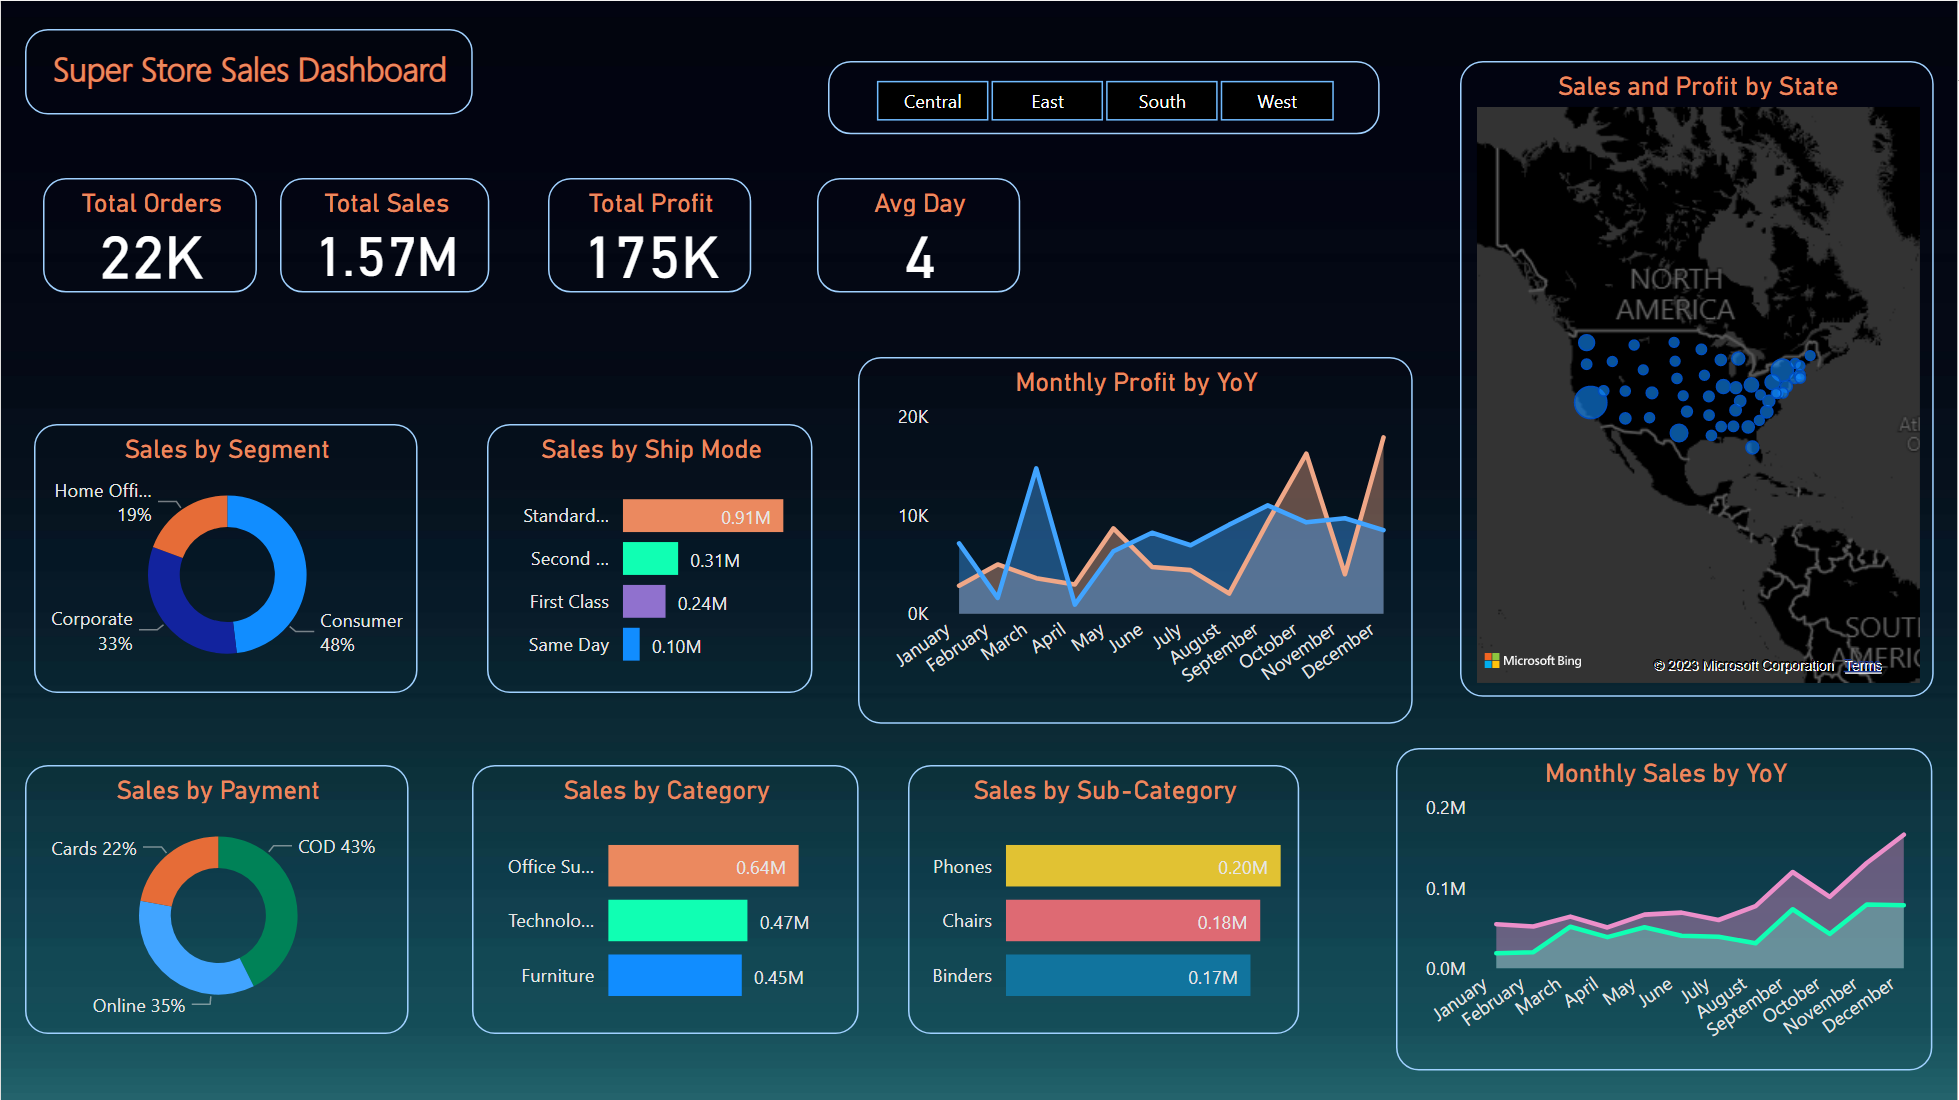

This screenshot's page, from the dashboard's own definition file:
{"tool":"powerbi","page":{"name":"Page 1","canvas":[1280,720],"ordinal":0},"visuals":[{"type":"textbox","box":[15.7,18.3,292.5,56.3],"z":0},{"type":"card","title":"Total Orders","fields":{"Values":["Sum(SuperStore_Sales_Dataset.Quantity)"]},"box":[27.5,115.8,140,75.3],"z":1},{"type":"card","title":"Total Sales","fields":{"Values":["Sum(SuperStore_Sales_Dataset.Sales)"]},"box":[182.6,116.1,137.4,75.3],"z":2},{"type":"card","title":"Total Profit","fields":{"Values":["Sum(SuperStore_Sales_Dataset.Profit)"]},"box":[358,116.1,132.8,75.3],"z":3},{"type":"donutChart","title":"Sales by Segment","fields":{"Category":["SuperStore_Sales_Dataset.Segment"],"Y":["Sum(SuperStore_Sales_Dataset.Sales)"]},"box":[21.6,276.8,250.6,176],"z":4},{"type":"donutChart","title":"Sales by Payment","fields":{"Y":["Sum(SuperStore_Sales_Dataset.Sales)"],"Category":["SuperStore_Sales_Dataset.Payment Mode"]},"box":[15.7,500,250.6,176],"z":5},{"type":"barChart","title":"Sales by Ship Mode","fields":{"Category":["SuperStore_Sales_Dataset.Ship Mode"],"Y":["Sum(SuperStore_Sales_Dataset.Sales)"]},"box":[318,276.8,213.3,176],"z":6},{"type":"areaChart","title":"Monthly Sales by  YoY","fields":{"Y":["Sum(SuperStore_Sales_Dataset.Sales)"],"Category":["SuperStore_Sales_Dataset.Order Date.Variation.Date Hierarchy.Month"],"Series":["SuperStore_Sales_Dataset.Order Date.Variation.Date Hierarchy.Year"]},"box":[912.9,488.8,351.4,211.4],"z":7},{"type":"map","title":"Sales and Profit by State","fields":{"Size":["Sum(SuperStore_Sales_Dataset.Sales)"],"Category":["SuperStore_Sales_Dataset.State"]},"box":[954.8,39.3,309.5,416.2],"z":8},{"type":"areaChart","title":"Monthly Profit by  YoY","fields":{"Category":["SuperStore_Sales_Dataset.Order Date.Variation.Date Hierarchy.Month","SuperStore_Sales_Dataset.Order Date.Variation.Date Hierarchy.Day"],"Series":["SuperStore_Sales_Dataset.Order Date.Variation.Date Hierarchy.Year"],"Y":["Sum(SuperStore_Sales_Dataset.Profit)"]},"box":[560.8,233,362.5,240.2],"z":9},{"type":"barChart","title":"Sales by Category","fields":{"Y":["Sum(SuperStore_Sales_Dataset.Sales)"],"Category":["SuperStore_Sales_Dataset.Category"]},"box":[308.2,500,252.6,176],"z":10},{"type":"card","title":"Avg Day","fields":{"Values":["Avg(SuperStore_Sales_Dataset.AvgDelivery)"]},"box":[534,116.1,132.8,75.3],"z":11},{"type":"slicer","fields":{"Values":["SuperStore_Sales_Dataset.Region"]},"box":[541.2,39.3,360.6,48.4],"z":12},{"type":"barChart","title":"Sales by Sub-Category","fields":{"Y":["Sum(SuperStore_Sales_Dataset.Sales)"],"Category":["SuperStore_Sales_Dataset.Sub-Category"]},"box":[593.5,500,255.9,176],"z":13}]}

Visuals, with their boxes in screenshot pixels (x1, y1, x2, y2), scaled from the page's 1280x720 canvas onto the 1959x1100 screenshot:
textbox: x1=24, y1=28, x2=472, y2=114
"Total Orders" card: x1=42, y1=177, x2=256, y2=292
"Total Sales" card: x1=279, y1=177, x2=490, y2=292
"Total Profit" card: x1=548, y1=177, x2=751, y2=292
"Sales by Segment" donutChart: x1=33, y1=423, x2=417, y2=692
"Sales by Payment" donutChart: x1=24, y1=764, x2=408, y2=1033
"Sales by Ship Mode" barChart: x1=487, y1=423, x2=813, y2=692
"Monthly Sales by  YoY" areaChart: x1=1397, y1=747, x2=1935, y2=1070
"Sales and Profit by State" map: x1=1461, y1=60, x2=1935, y2=696
"Monthly Profit by  YoY" areaChart: x1=858, y1=356, x2=1413, y2=723
"Sales by Category" barChart: x1=472, y1=764, x2=858, y2=1033
"Avg Day" card: x1=817, y1=177, x2=1021, y2=292
slicer - SuperStore_Sales_Dataset.Region: x1=828, y1=60, x2=1380, y2=134
"Sales by Sub-Category" barChart: x1=908, y1=764, x2=1300, y2=1033
